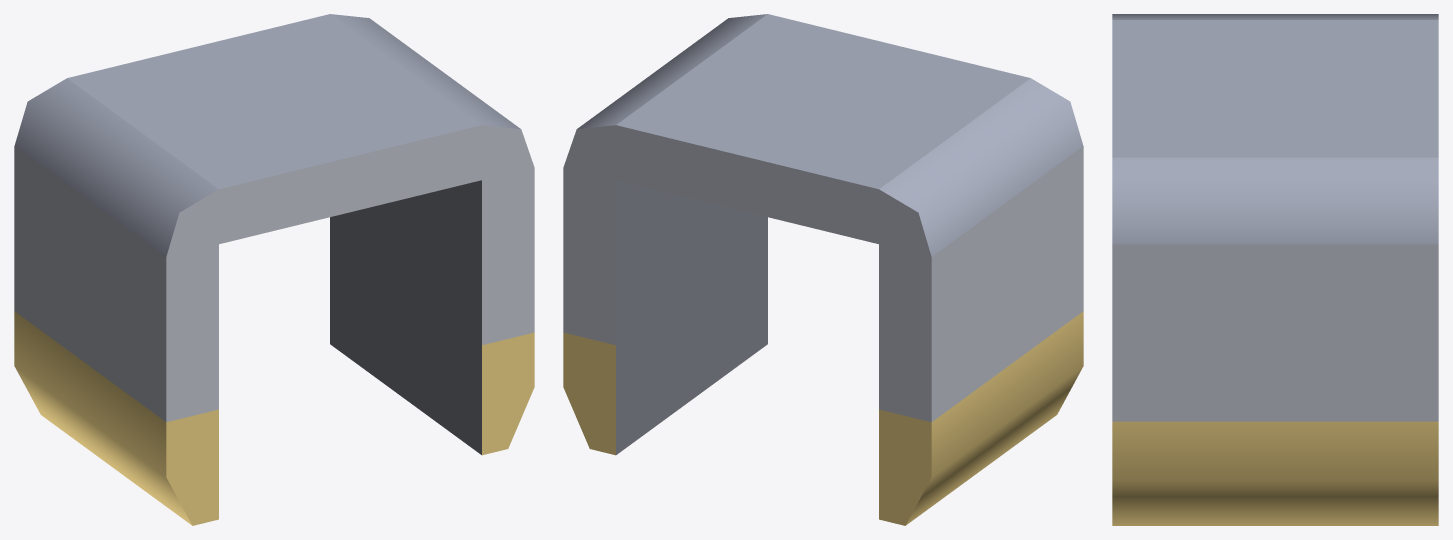
Rendered from cover-stripe.fbx.
3 renders of one model, left to right at view 1: azimuth 30°, elevation 25°; view 2: azimuth 150°, elevation 25°; view 3: azimuth 270°, elevation 25°, orthographic. The views are drawn at different scales.
Visible parts, largest first — view 1: cover-stripe; view 2: cover-stripe; view 3: cover-stripe.
Part boxes in pixels (x1,y1,x2,y2): cover-stripe: (14, 14, 534, 525); cover-stripe: (563, 14, 1083, 525); cover-stripe: (1112, 14, 1438, 525).
Size of the model in its own units: 140 by 120 by 100.
